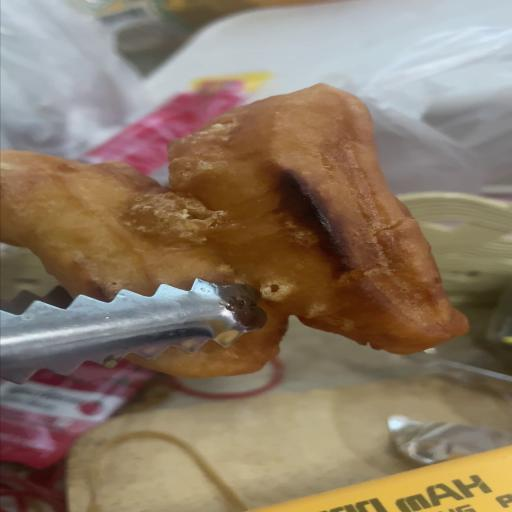street_burnt_defect: (0, 84, 467, 377)
